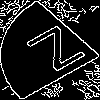Z: (25, 25, 97, 80)
